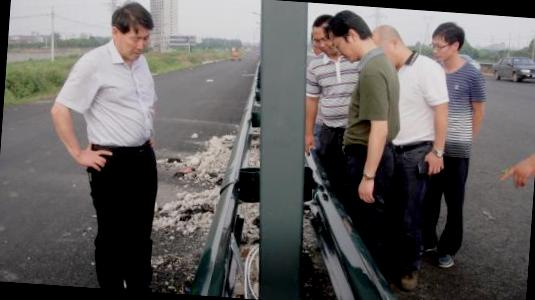no_helmet: (104, 0, 155, 62), (324, 7, 371, 64), (426, 17, 468, 70), (372, 22, 410, 62), (308, 10, 336, 54)
